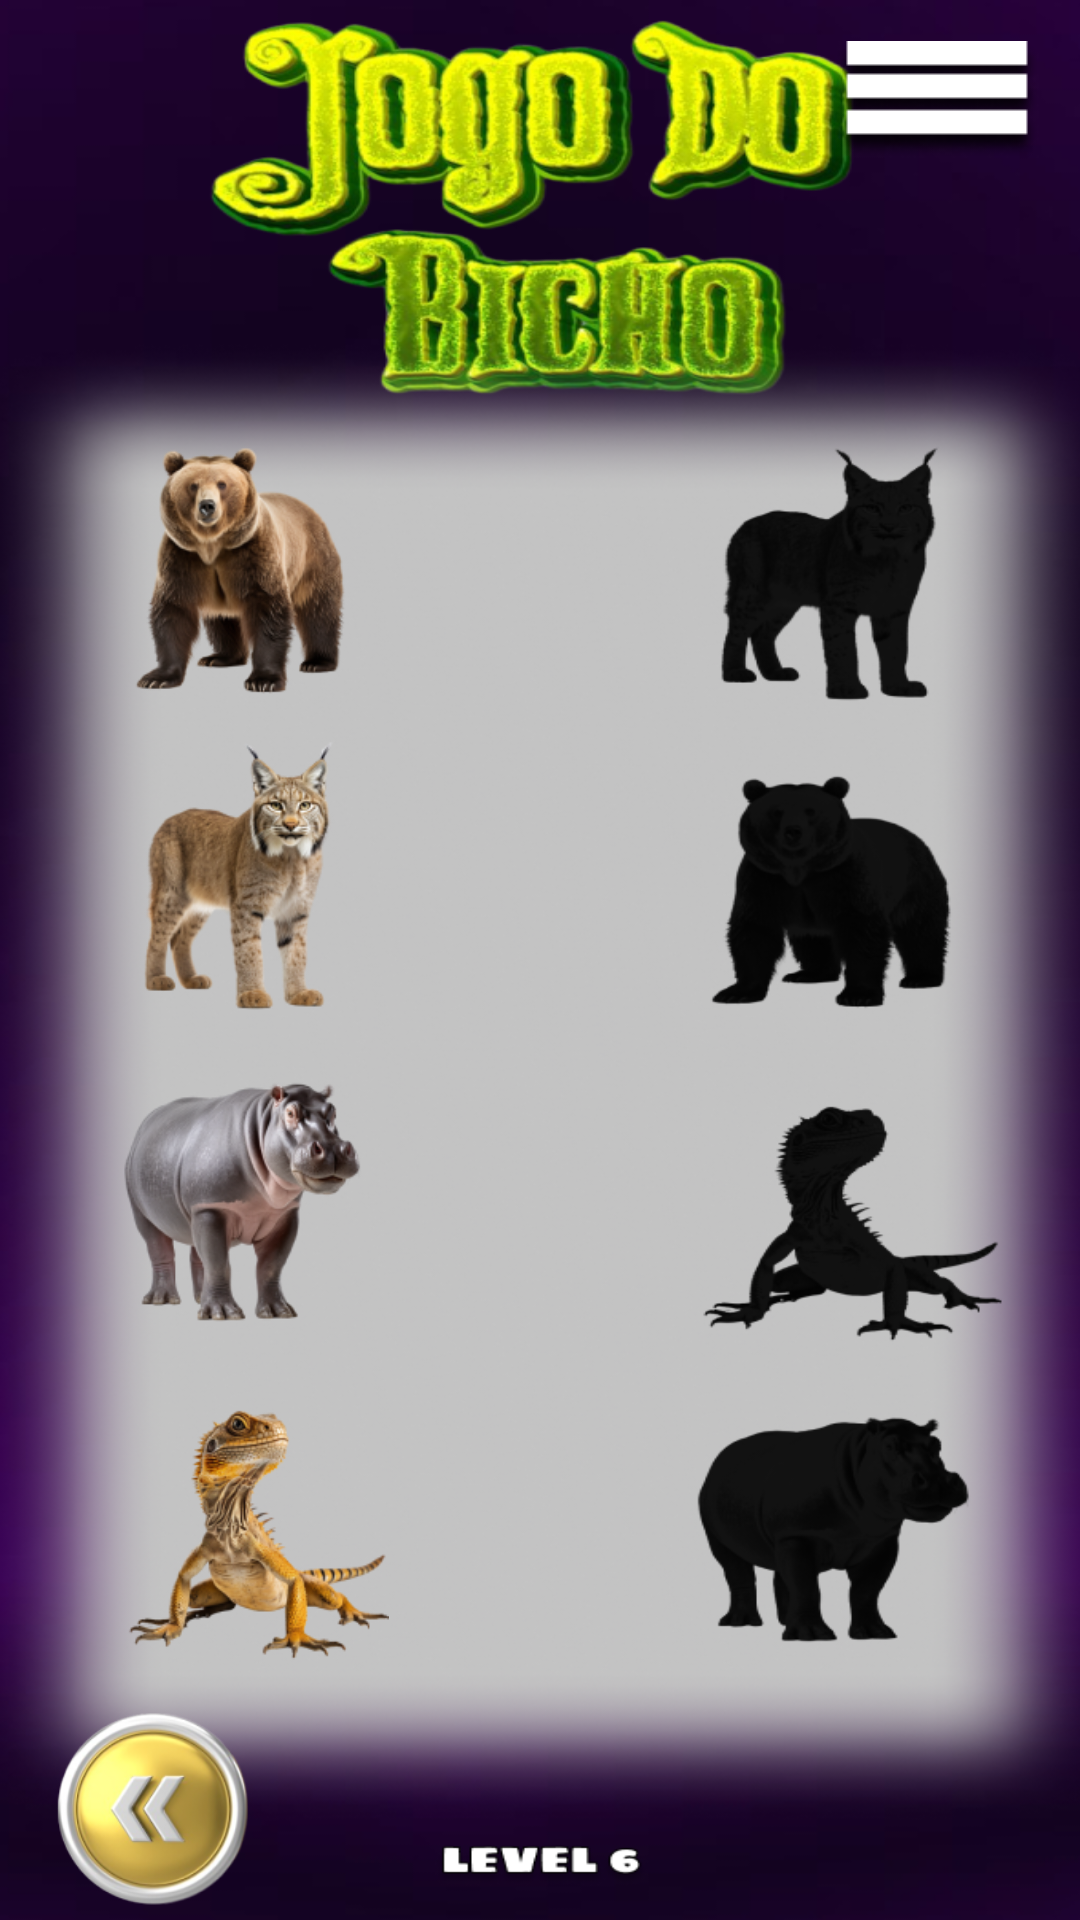

Screen size 1080x1920. Icon name, then its center in pixels as point (x, y):
back tap: point (151, 1809)
